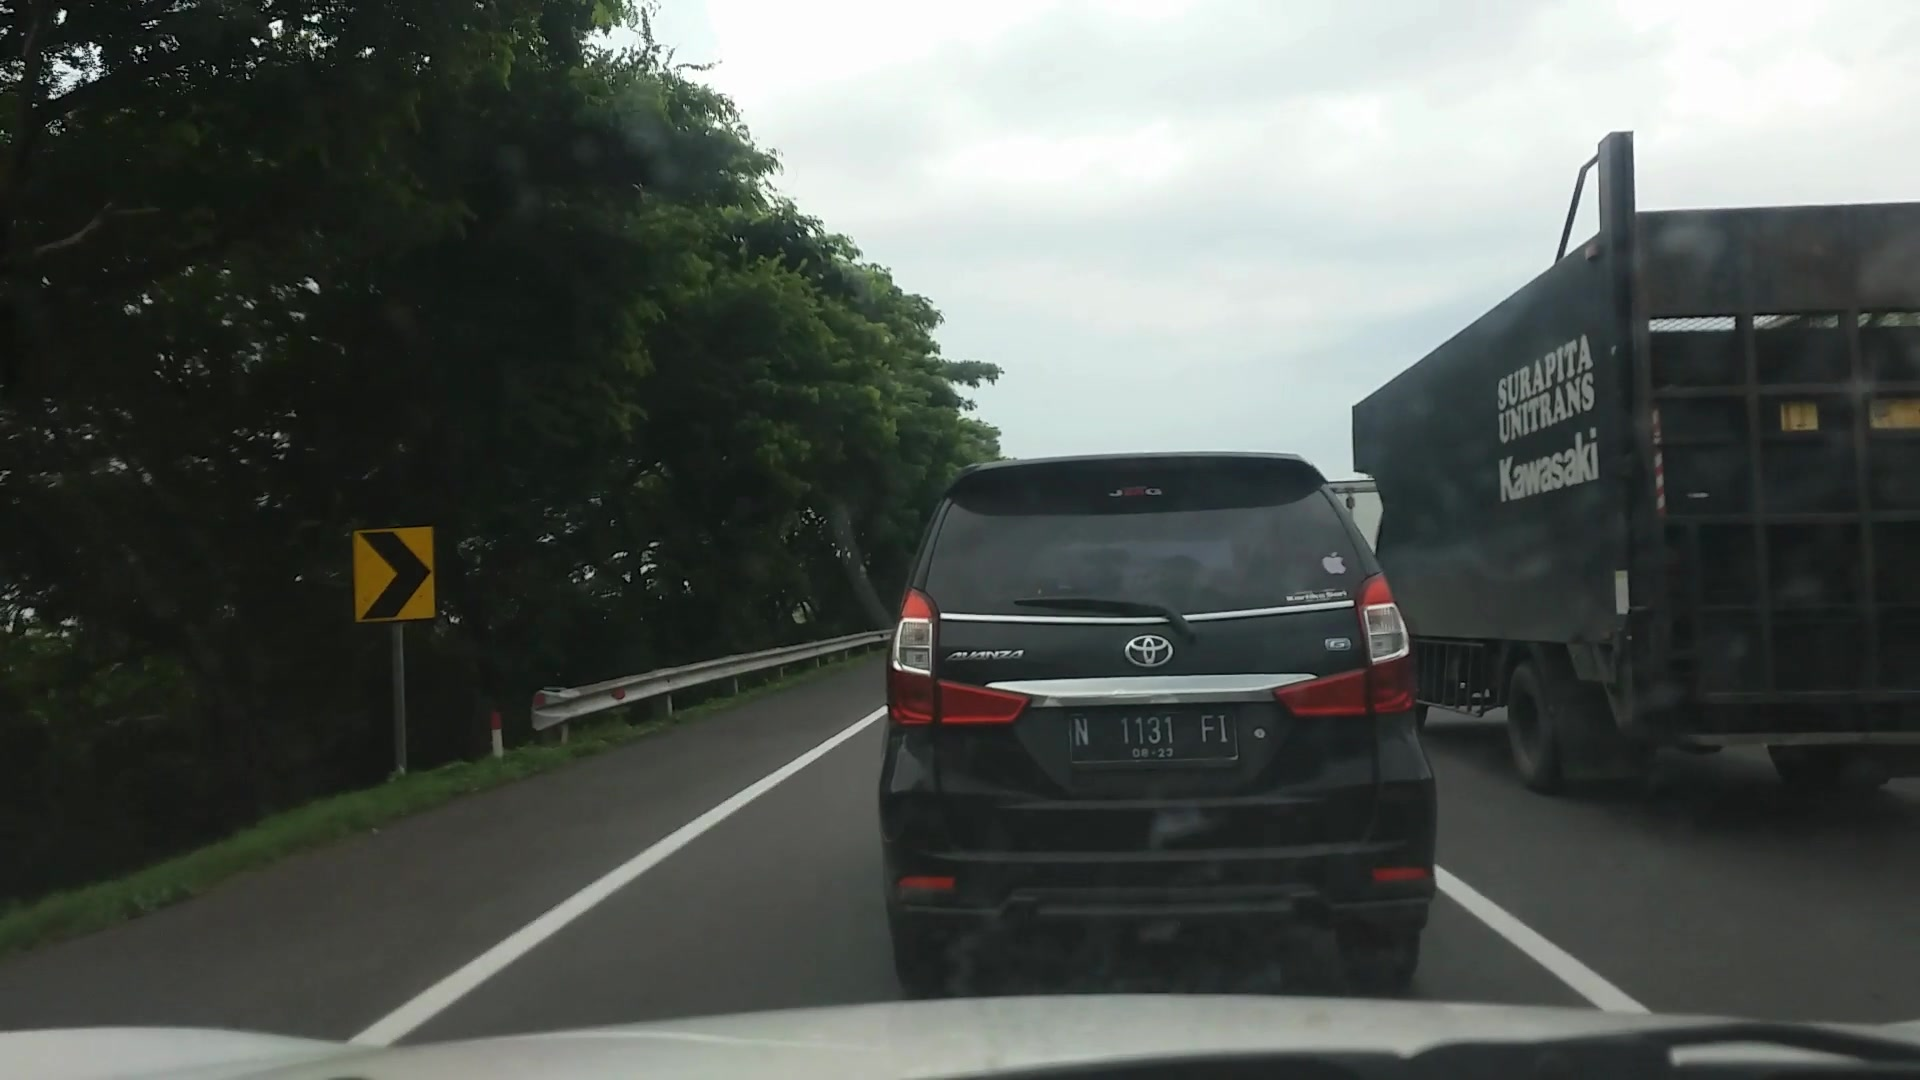plate_positive: (1068, 709, 1240, 762)
